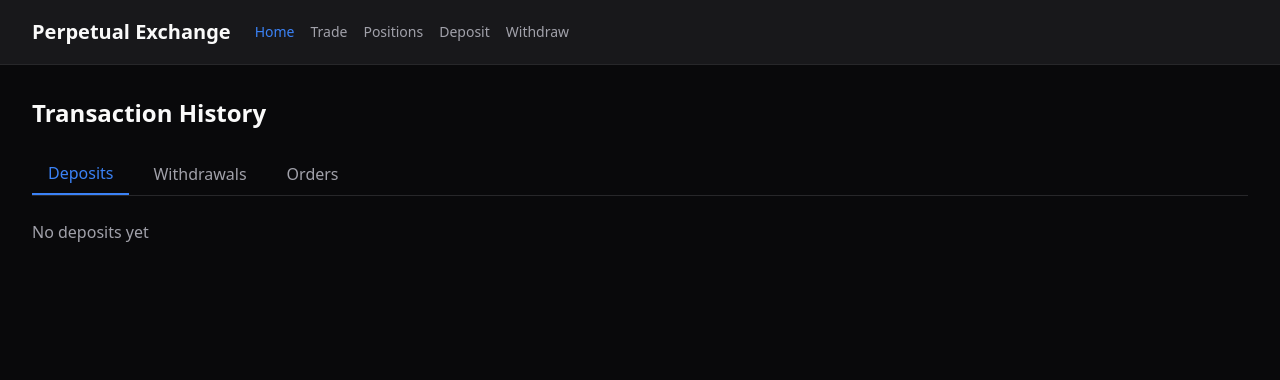
it: TransactionsPage › should display withdrawals table when data is loaded
Click the button "Withdrawals".
click(200, 174)  # box left=138, top=153, right=263, bottom=195
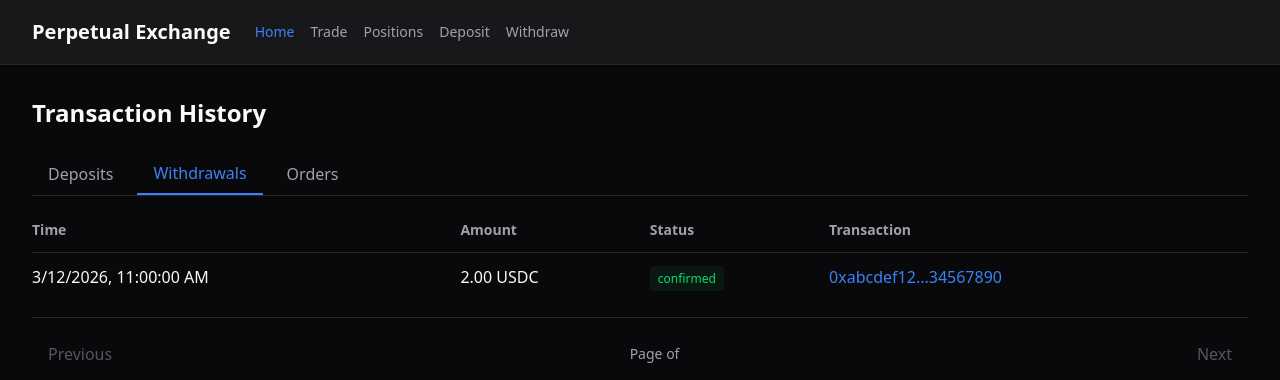
Expected: the text "2.00 USDC" is shown, left=460, top=252, right=650, bottom=301
Expected: the text "confirmed" is shown, left=650, top=266, right=724, bottom=291
